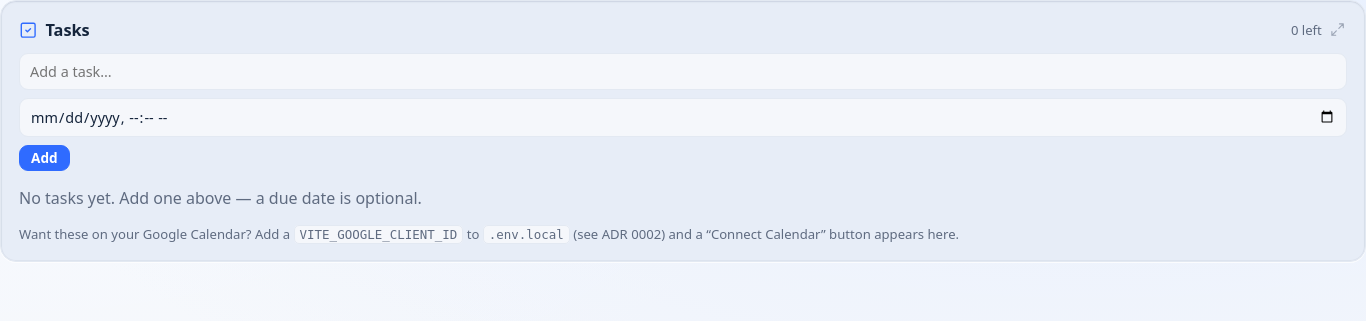
RemindersWidget working through the list › counts unfinished tasks in the header
This screenshot has width=1366, height=321.
Type "One" into the field with placeholder "Add a task…" at (683, 72), box [19,53,1347,90]
Then press Enter
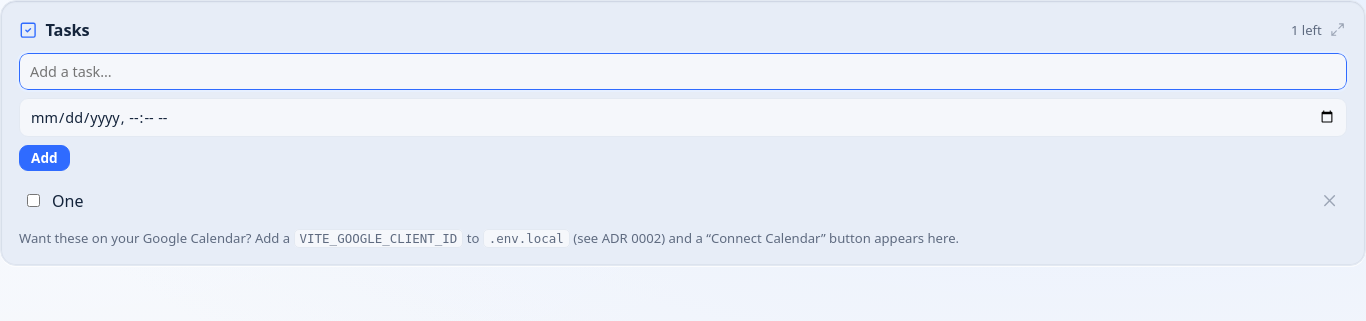
Type "Two" into the field with placeholder "Add a task…" at (683, 72), box [19,53,1347,90]
Then press Enter
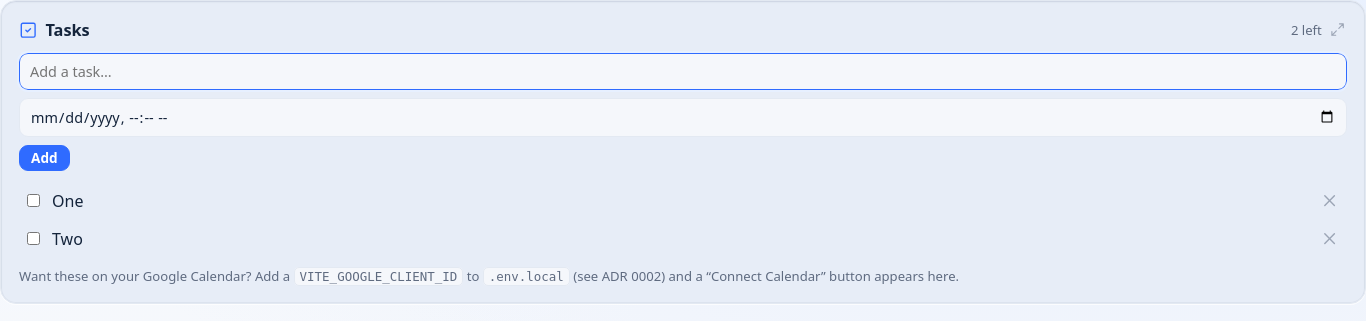
Expected: the text "2 left" is shown, [1291,21,1322,39]
